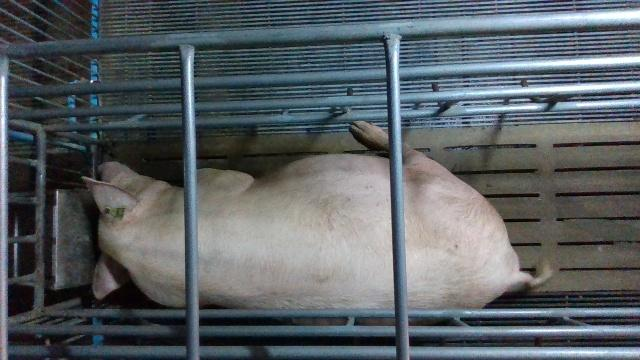sow-sleep: (82, 122, 553, 324)
